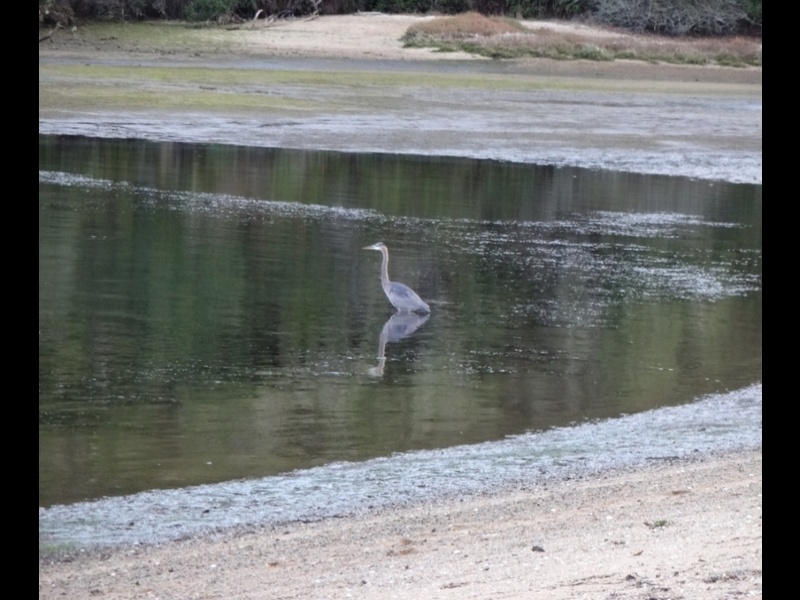heron: (362, 239, 430, 315)
